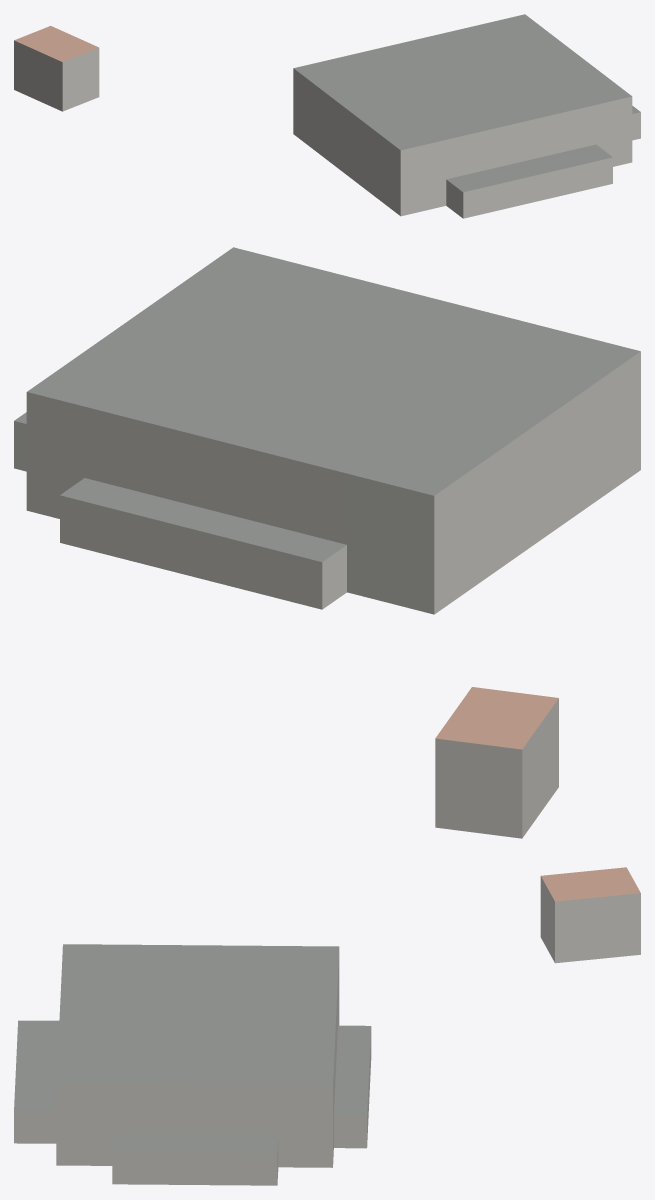
The model's file is gridID_24.dae.
The picture shows the model from 3 angles, top to bottom: view 1: azimuth 30°, elevation 25°; view 2: azimuth 150°, elevation 25°; view 3: azimuth 270°, elevation 25°; orthographic projection. The views are drawn at different scales.
Parts seen in each view (by area): view 1: model_gridID_24_w116940062, model_gridID_24_w382893198; view 2: model_gridID_24_w116940062, model_gridID_24_w382893198; view 3: model_gridID_24_w116940062, model_gridID_24_w382893198.
Boxes of the visible parts, x1=… form: model_gridID_24_w116940062: x1=293, y1=14, x2=640, y2=218; model_gridID_24_w382893198: x1=14, y1=26, x2=99, y2=111; model_gridID_24_w116940062: x1=14, y1=247, x2=640, y2=614; model_gridID_24_w382893198: x1=435, y1=687, x2=558, y2=838; model_gridID_24_w116940062: x1=14, y1=944, x2=371, y2=1185; model_gridID_24_w382893198: x1=540, y1=867, x2=640, y2=963.
Size of the model in its own units: 67 by 69.14 by 10.
